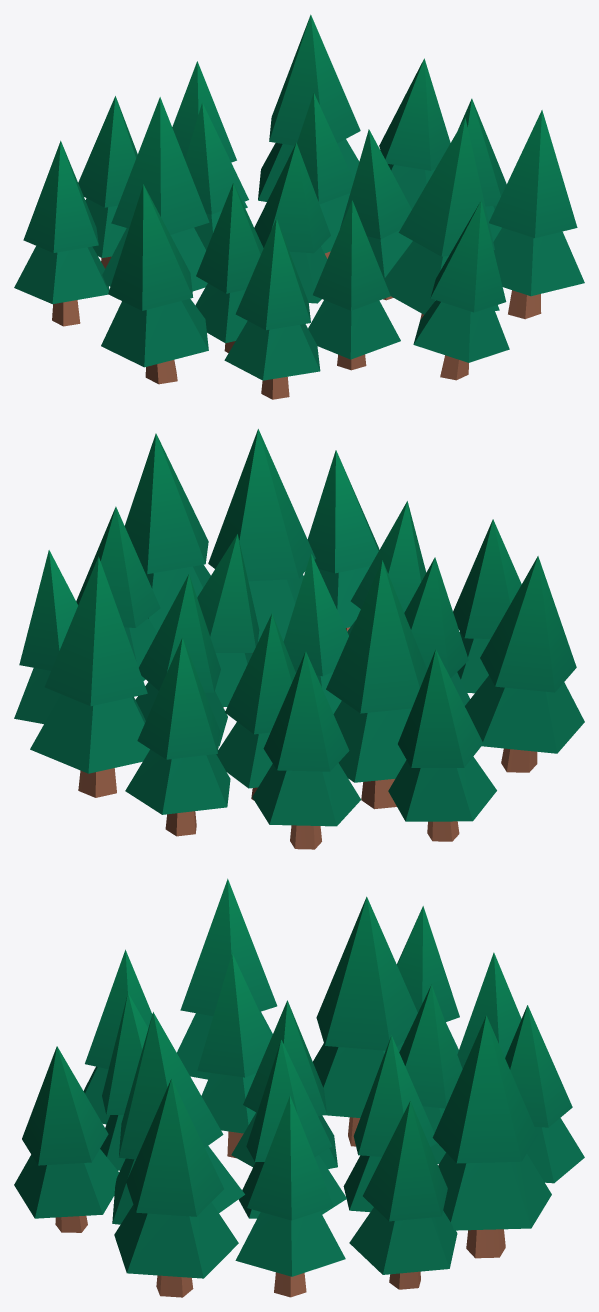
File: hex-trees_A_large.glb
3 views of the same model, one above another, from view 1: azimuth 30°, elevation 25°; view 2: azimuth 150°, elevation 25°; view 3: azimuth 270°, elevation 25° (orthographic). The views are drawn at different scales.
Visible parts, largest first — view 1: trees_A_large; view 2: trees_A_large; view 3: trees_A_large.
Boxes of the visible parts, box(x1,y1,x2,y2) form: trees_A_large: box(14, 14, 584, 399); trees_A_large: box(14, 429, 584, 849); trees_A_large: box(14, 878, 584, 1297).
Bounding box in the file's own units: 1.95 × 0.9264 × 1.97.
1 material, 1 textured.
